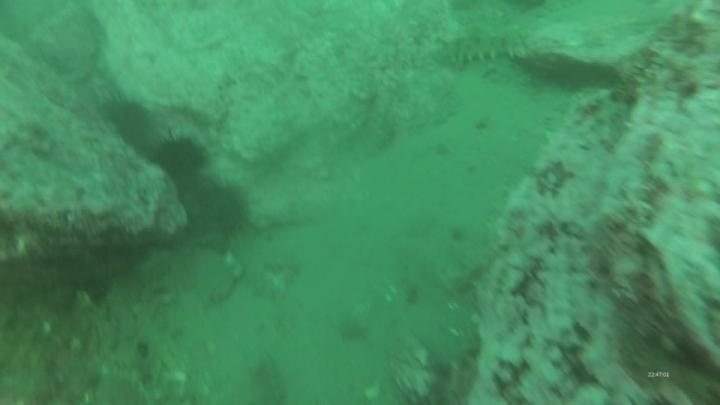echinus: (150, 130, 209, 181), (200, 181, 252, 238), (101, 95, 155, 148)
holothurian: (430, 25, 535, 70)
